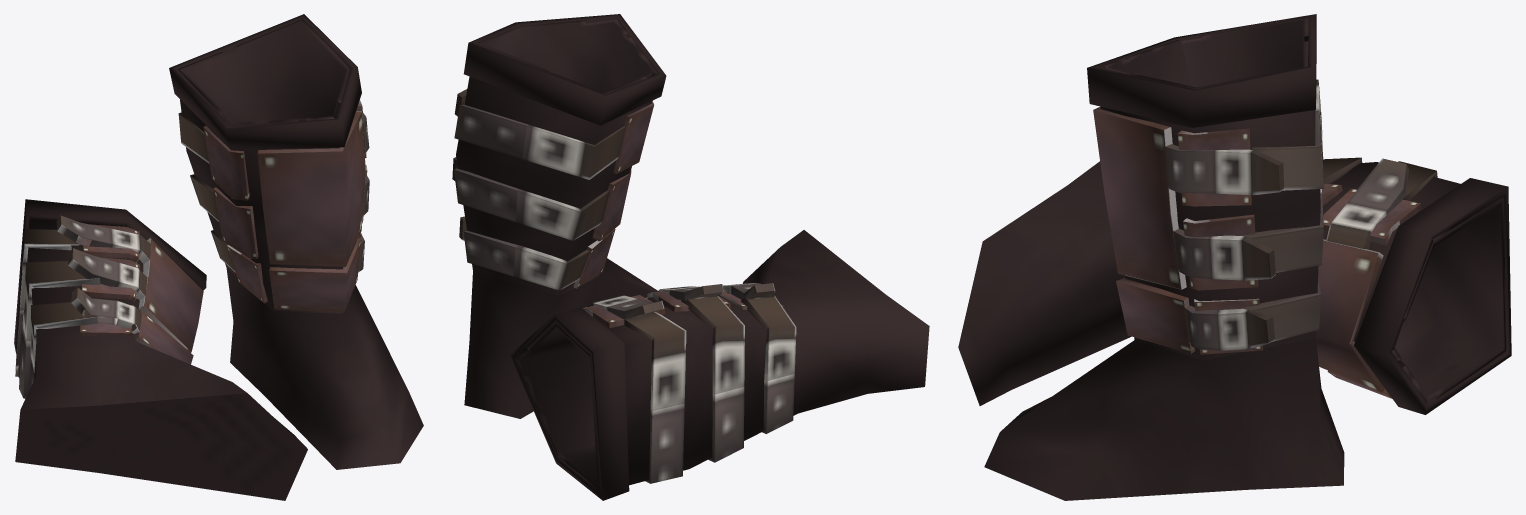
File: LeatherBoots_Ground.fbx
3 views of the same model, side by side, from view 1: azimuth 30°, elevation 25°; view 2: azimuth 150°, elevation 25°; view 3: azimuth 270°, elevation 25° (orthographic). The views are drawn at different scales.
Visible parts, largest first — view 1: boots; view 2: boots; view 3: boots.
Boxes of the visible parts, x1,y1,x2,y2 form: boots: (14,14,423,500); boots: (452,14,929,500); boots: (958,14,1511,500).
Bounding box in the file's own units: 28.47 × 23.78 × 27.66.
